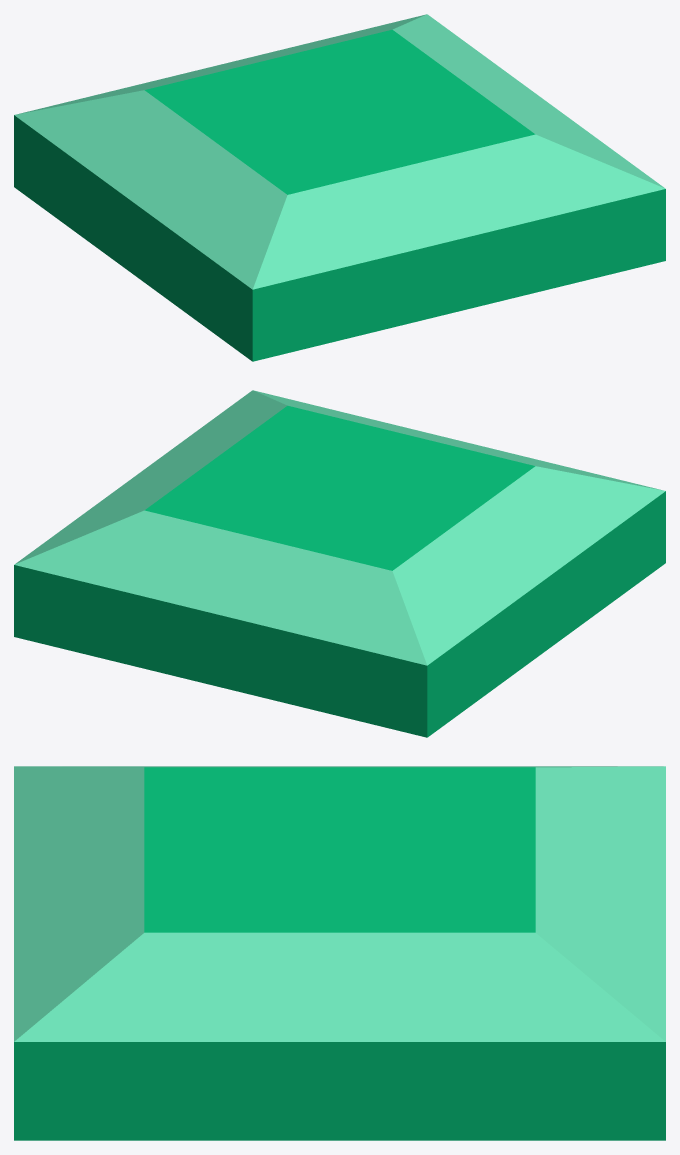
Rendered from Emerald.fbx.
3 views of the same model, one above another, from view 1: azimuth 30°, elevation 25°; view 2: azimuth 150°, elevation 25°; view 3: azimuth 270°, elevation 25° (orthographic). The views are drawn at different scales.
Visible parts, largest first — view 1: Cube; view 2: Cube; view 3: Cube.
Boxes of the visible parts, box(x1,y1,x2,y2) form: Cube: box(14, 14, 665, 361); Cube: box(14, 390, 665, 737); Cube: box(14, 766, 665, 1140).
Size of the model in its own units: 100 by 35 by 100.
